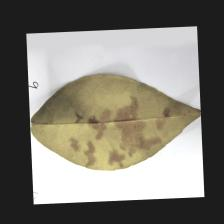canker: (63, 92, 174, 172)
